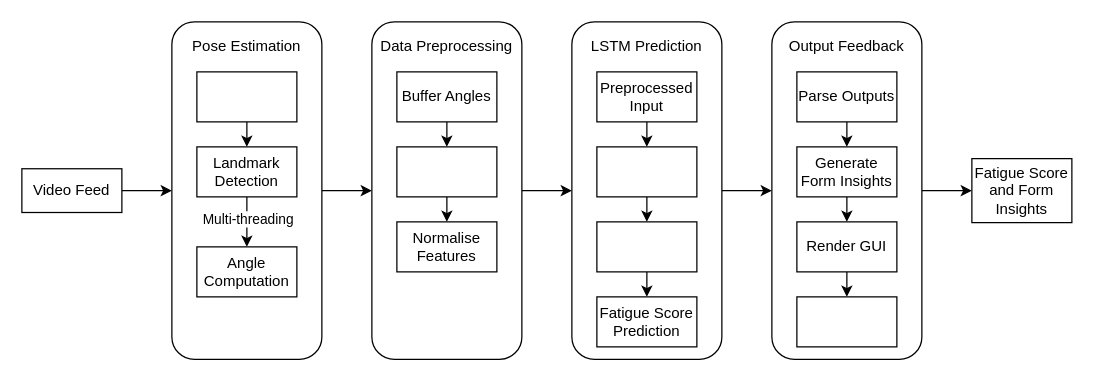
The diagram is 1094 pixels wide and 381 high, and some of its shapes have lost their labels. Here are the shapes that lost their labels. From the top down, the centre of each, then its label:
At pixel 246 96: "MediaPipe Inference".
At pixel 446 171: "Compute Features".
At pixel 646 171: "Initialise Hidden State".
At pixel 646 246: "LSTM Layer Processing".
At pixel 846 321: "Display Outputs".
